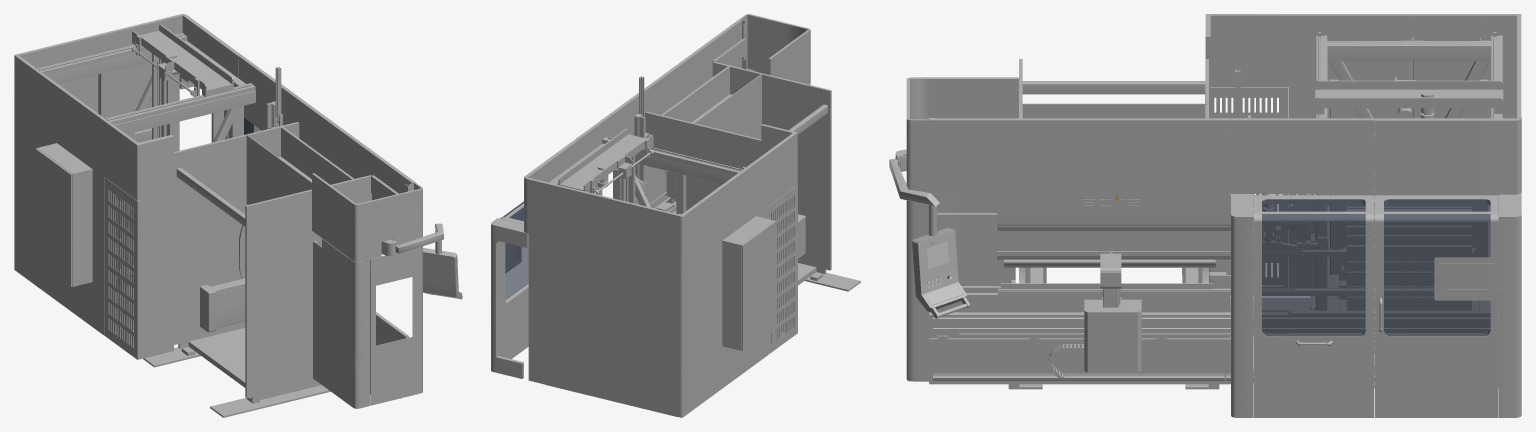
The model's file is ATCBB_Final.fbx.
3 renders of one model, left to right at view 1: azimuth 30°, elevation 25°; view 2: azimuth 150°, elevation 25°; view 3: azimuth 270°, elevation 25°, orthographic. The views are drawn at different scales.
Visible parts, largest first — view 1: ATCBB_LeftShield, ATCBB_InsideWall, ATCBB_RightShield, ATCBB_TopShield, ATCBB_Locker, ATCBB_BacksideDoor, ATCBB_TopStructure, ATCBB_InsideSupportStructure1, ATCBB_GroundStruct, ATCBB_MechanicBoxes, ATCBB_Ground, ATCBB_InsideSupportStructure3 (+7 smaller); view 2: ATCBB_LeftShield, ATCBB_InsideWall, ATCBB_TopShield, ATCBB_Locker, ATCBB_LeftDoor, ATCBB_RightShield, ATCBB_BacksideDoor, ATCBB_TopStructure, ATCBB_InsideSupportStructure1, ATCBB_InsideSupportStructure7, ATCBB_GroundStruct, polySurface3 (+3 smaller); view 3: ATCBB_TopShield, ATCBB_LeftDoor, ATCBB_RightDoor, ATCBB_LeftShield, ATCBB_DownStruct, ATCBB_RightShield, polySurface3, polySurface2, ATCBB_TopStructure, ATCBB_PickerFront, ATCBB_PunctureSupport12, ATCBB_InsideSupportStructure1 (+22 smaller).
Part boxes in pixels (x1=…): ATCBB_LeftShield: x1=14, y1=14, x2=241, y2=358; ATCBB_InsideWall: x1=174, y1=122, x2=371, y2=401; ATCBB_RightShield: x1=312, y1=173, x2=422, y2=408; ATCBB_TopShield: x1=176, y1=55, x2=415, y2=226; ATCBB_Locker: x1=35, y1=143, x2=92, y2=286; ATCBB_BacksideDoor: x1=105, y1=177, x2=140, y2=359; ATCBB_TopStructure: x1=131, y1=24, x2=233, y2=96; ATCBB_InsideSupportStructure1: x1=46, y1=40, x2=255, y2=134; ATCBB_GroundStruct: x1=113, y1=285, x2=330, y2=417; ATCBB_MechanicBoxes: x1=200, y1=278, x2=245, y2=332; ATCBB_Ground: x1=188, y1=328, x2=245, y2=387; ATCBB_InsideSupportStructure3: x1=98, y1=72, x2=232, y2=305; ATCBB_LeftShield: x1=524, y1=124, x2=797, y2=417; ATCBB_InsideWall: x1=645, y1=61, x2=831, y2=273; ATCBB_TopShield: x1=576, y1=19, x2=827, y2=159; ATCBB_Locker: x1=722, y1=216, x2=775, y2=350; ATCBB_LeftDoor: x1=491, y1=201, x2=528, y2=378; ATCBB_RightShield: x1=712, y1=14, x2=810, y2=84; ATCBB_BacksideDoor: x1=767, y1=185, x2=797, y2=355; ATCBB_TopStructure: x1=558, y1=128, x2=653, y2=194; ATCBB_InsideSupportStructure1: x1=549, y1=143, x2=733, y2=184; ATCBB_InsideSupportStructure7: x1=602, y1=136, x2=744, y2=175; ATCBB_GroundStruct: x1=545, y1=272, x2=860, y2=416; polySurface3: x1=645, y1=166, x2=668, y2=207; ATCBB_TopShield: x1=930, y1=81, x2=1374, y2=193; ATCBB_LeftDoor: x1=1375, y1=192, x2=1521, y2=417; ATCBB_RightDoor: x1=1231, y1=194, x2=1374, y2=417; ATCBB_LeftShield: x1=1205, y1=14, x2=1521, y2=288; ATCBB_DownStruct: x1=929, y1=293, x2=1498, y2=384; ATCBB_RightShield: x1=906, y1=77, x2=1018, y2=381; polySurface3: x1=997, y1=193, x2=1230, y2=259; polySurface2: x1=997, y1=194, x2=1230, y2=225; ATCBB_TopStructure: x1=1315, y1=77, x2=1503, y2=118; ATCBB_PickerFront: x1=1084, y1=249, x2=1141, y2=372; ATCBB_PunctureSupport12: x1=1347, y1=245, x2=1471, y2=353; ATCBB_InsideSupportStructure1: x1=1315, y1=41, x2=1491, y2=151.
Size of the model in its own units: 315 by 310 by 556.
